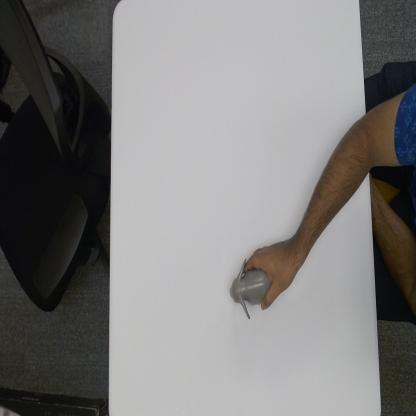Arm: (298, 102, 372, 257)
Elephant: (228, 256, 268, 320)
Hand: (245, 236, 306, 310)
